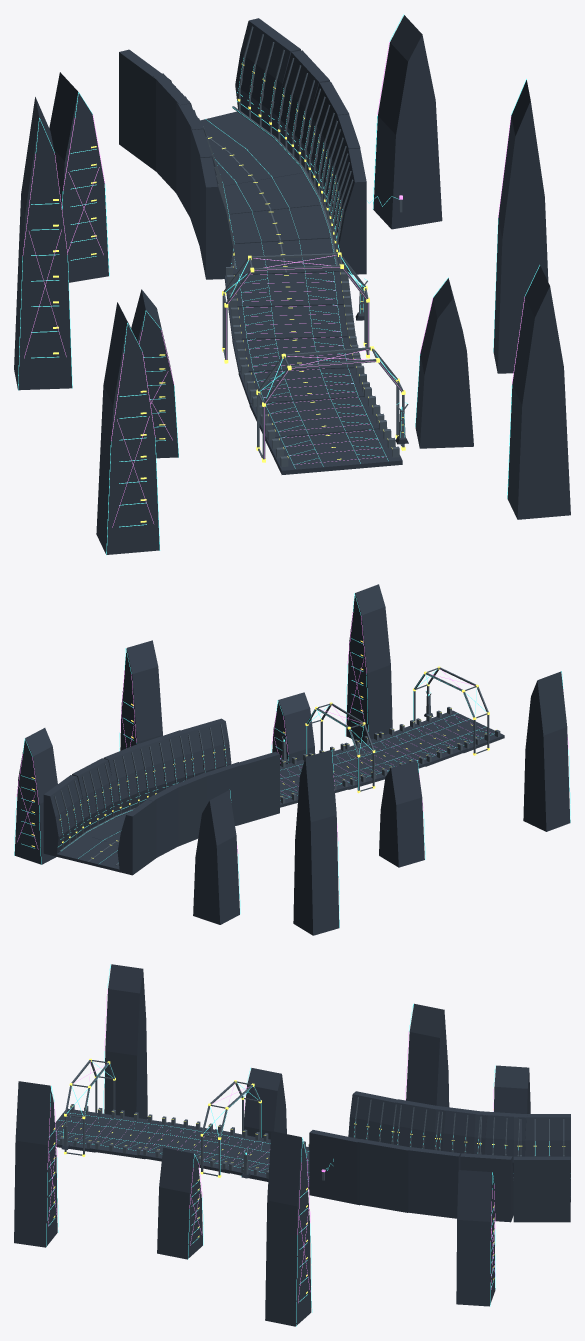
The model's file is route_batch_1.glb.
3 renders of one model, top to bottom at view 1: azimuth 30°, elevation 25°; view 2: azimuth 150°, elevation 25°; view 3: azimuth 270°, elevation 25°, orthographic. The views are drawn at different scales.
Parts seen in each view (by area): view 1: route_batch_1; view 2: route_batch_1; view 3: route_batch_1.
Part boxes in pixels (box(x1,y1,x2,y2)): route_batch_1: box(14, 14, 570, 555); route_batch_1: box(14, 584, 570, 935); route_batch_1: box(14, 964, 570, 1326).
Bounding box in the file's own units: 580 × 254 × 695.
